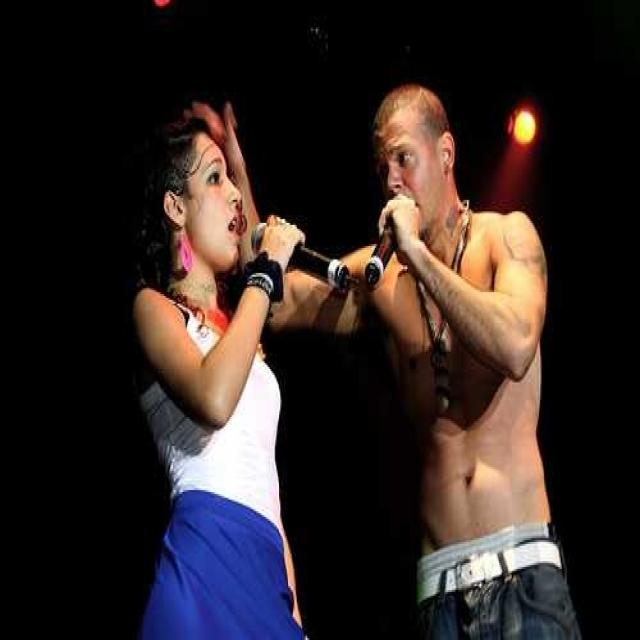microphone: (249, 216, 358, 294), (368, 194, 431, 290)
